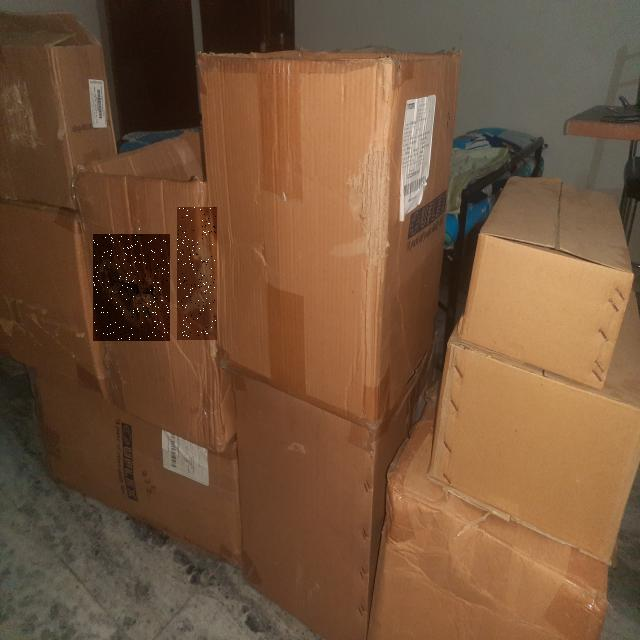squeeze: (93, 235, 169, 340), (177, 207, 216, 338)
